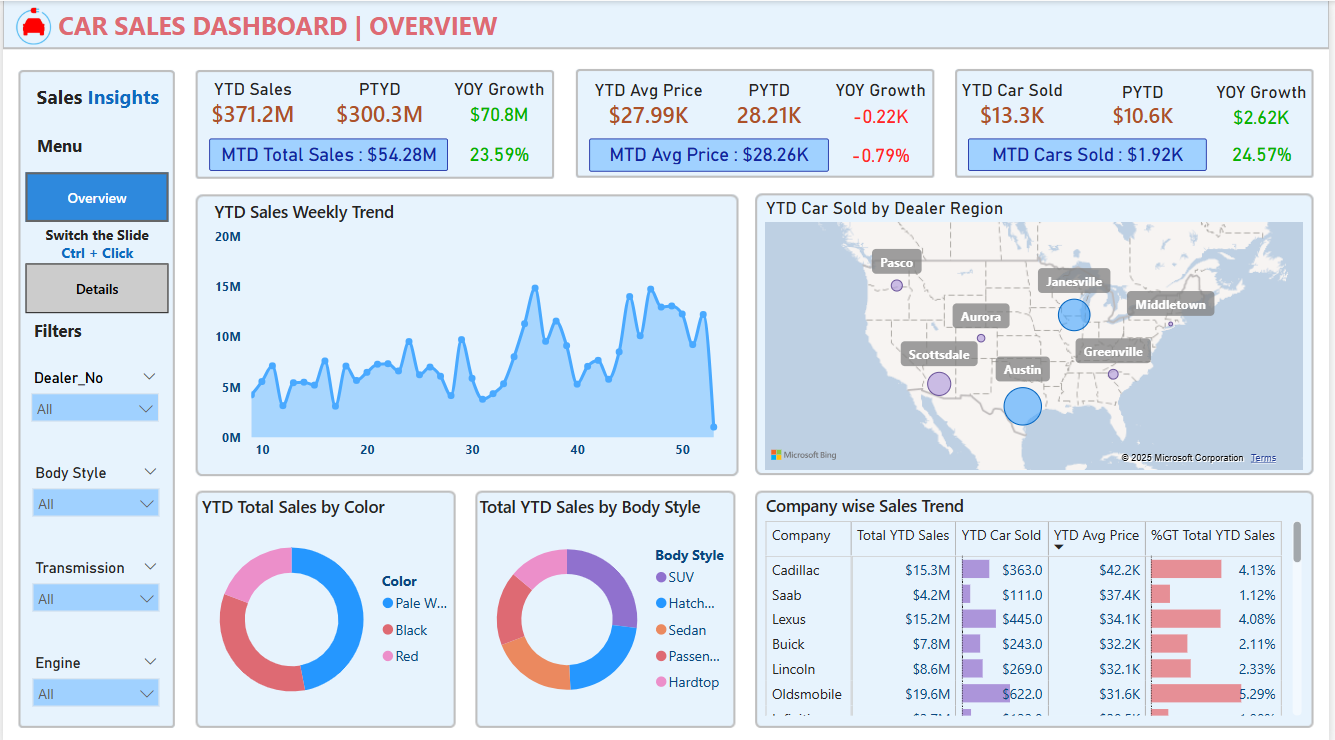

What the dashboard file says about the page in this screenshot:
{"tool":"powerbi","page":{"name":"Overview","canvas":[1280,720],"ordinal":0},"visuals":[{"type":"card","title":"YTD Sales","fields":{"Values":["car_data.Total YTD"]},"box":[190.6,75.2,101.3,51.9],"z":0},{"type":"card","title":"PTYD","fields":{"Values":["car_data.PTYD Total Sales"]},"box":[310.1,75.2,107.4,51.9],"z":1000},{"type":"card","title":"YOY Growth","fields":{"Values":["car_data.Sales Difference"]},"box":[429.5,75.2,98.9,51.9],"z":2000},{"type":"card","fields":{"Values":["car_data.%age YTD Sales"]},"box":[442.9,131.8,72.8,34],"z":3000},{"type":"card","title":"PTYD Sales","fields":{"Values":["car_data.MTD Total Sales"]},"box":[199,133,230.6,31.6],"z":4000},{"type":"card","title":"YTD Avg Price","fields":{"Values":["car_data.YTD Avg Price car sold"]},"box":[564.6,76.2,117,51.9],"z":5000},{"type":"card","title":"PYTD","fields":{"Values":["car_data.PYTD Avg Price car sold"]},"box":[676.9,76.2,125.5,51.9],"z":6000},{"type":"card","title":"YTD Car Sold","fields":{"Values":["car_data.YTD Car Sold"]},"box":[915.6,75.7,116.7,51.6],"z":7000},{"type":"card","title":"YOY Growth","fields":{"Values":["car_data.Avg price difference"]},"box":[797.6,76.2,98.9,51.9],"z":8000},{"type":"card","title":"YOY Growth","fields":{"Values":["car_data.% age of Avg YTD"]},"box":[810.5,128.7,72.8,40],"z":9000},{"type":"card","title":"PTYD Sales","fields":{"Values":["car_data.MTD Avg Price"]},"box":[566.4,132.8,231,31.9],"z":10000},{"type":"card","title":"PYTD","fields":{"Values":["car_data.PYTD Car Sold"]},"box":[1037.5,76.7,125,49.8],"z":11000},{"type":"card","title":"YOY Growth","fields":{"Values":["car_data.Car sold difference"]},"box":[1165,76.7,98.3,52.2],"z":12000},{"type":"card","title":"YOY Growth","fields":{"Values":["car_data.% age of Car sold YTD"]},"box":[1180.7,131.8,68,34],"z":13000},{"type":"card","title":"PTYD Sales","fields":{"Values":["car_data.MTD Cars Sold"]},"box":[932,133,230.6,31.6],"z":14000},{"type":"areaChart","title":"YTD Sales Weekly Trend","fields":{"Category":["Calendare table.Week"],"Y":["Sum(car_data.Price ($))"]},"box":[199.1,191.8,522.4,259.4],"z":15000},{"type":"map","title":"YTD Car Sold by Dealer Region","fields":{"Category":["car_data.Dealer_Region"],"Size":["car_data.YTD Car Sold"]},"box":[730.5,189.3,527.9,268.2],"z":16000},{"type":"donutChart","title":"YTD Total Sales by Color","fields":{"Y":["car_data.Total YTD Sales"],"Category":["car_data.Color"]},"box":[186.9,476.9,258.5,219.6],"z":17000},{"type":"donutChart","fields":{"Category":["car_data.Body Style"],"Y":["car_data.Total YTD Sales"]},"box":[455.1,476.9,252.4,219.6],"z":18000},{"type":"pivotTable","title":"Company wise Sales Trend","fields":{"Rows":["car_data.Company"],"Values":["car_data.Total YTD Sales","car_data.YTD Car Sold","car_data.YTD Avg Price","Divide(car_data.Total YTD Sales, ScopedEval(car_data.Total YTD Sales, []))"]},"box":[731.1,475.3,527.2,219.6],"z":19000},{"type":"slicer","fields":{"Values":["car_data.Transmission"]},"box":[17.6,533.1,143.2,69.2],"z":20000},{"type":"slicer","fields":{"Values":["car_data.Engine"]},"box":[17.6,625,143.2,69.2],"z":21000},{"type":"slicer","fields":{"Values":["car_data.Dealer_No "]},"box":[17.4,349.9,143.6,68.8],"z":22000},{"type":"slicer","fields":{"Values":["car_data.Dealer_Region"]},"box":[17.6,441.3,143.2,69.2],"z":23000},{"type":"textbox","box":[35,2.4,515.2,48.3],"z":24000},{"type":"textbox","box":[17,75.2,149.3,40],"z":25000},{"type":"textbox","box":[17,122.6,75.2,32.8],"z":26000},{"type":"textbox","box":[17,302.2,71.6,40],"z":27000},{"type":"pageNavigator","box":[21.8,165,138.3,137.1],"z":28000},{"type":"textbox","box":[25.5,211.1,131.1,63.1],"z":29000},{"type":"image","box":[1,1.2,56.7,45.8],"z":30000}]}

Visuals, with their boxes in screenshot pixels (x1, y1, x2, y2), scaled from the page's 1280x720 canvas onto the 1335x740 screenshot:
"YTD Sales" card: <region>199, 77, 304, 131</region>
"PTYD" card: <region>323, 77, 435, 131</region>
"YOY Growth" card: <region>448, 77, 551, 131</region>
card - car_data.%age YTD Sales: <region>462, 135, 538, 170</region>
"PTYD Sales" card: <region>208, 137, 448, 169</region>
"YTD Avg Price" card: <region>589, 78, 711, 132</region>
"PYTD" card: <region>706, 78, 837, 132</region>
"YTD Car Sold" card: <region>955, 78, 1077, 131</region>
"YOY Growth" card: <region>832, 78, 935, 132</region>
"YOY Growth" card: <region>845, 132, 921, 173</region>
"PTYD Sales" card: <region>591, 136, 832, 169</region>
"PYTD" card: <region>1082, 79, 1212, 130</region>
"YOY Growth" card: <region>1215, 79, 1318, 132</region>
"YOY Growth" card: <region>1231, 135, 1302, 170</region>
"PTYD Sales" card: <region>972, 137, 1213, 169</region>
"YTD Sales Weekly Trend" areaChart: <region>208, 197, 753, 464</region>
"YTD Car Sold by Dealer Region" map: <region>762, 195, 1312, 470</region>
"YTD Total Sales by Color" donutChart: <region>195, 490, 465, 716</region>
donutChart - car_data.Body Style x car_data.Total YTD Sales: <region>475, 490, 738, 716</region>
"Company wise Sales Trend" pivotTable: <region>763, 489, 1312, 714</region>
slicer - car_data.Transmission: <region>18, 548, 168, 619</region>
slicer - car_data.Engine: <region>18, 642, 168, 713</region>
slicer - car_data.Dealer_No : <region>18, 360, 168, 430</region>
slicer - car_data.Dealer_Region: <region>18, 454, 168, 525</region>
textbox: <region>37, 2, 574, 52</region>
textbox: <region>18, 77, 173, 118</region>
textbox: <region>18, 126, 96, 160</region>
textbox: <region>18, 311, 92, 352</region>
pageNavigator: <region>23, 170, 167, 310</region>
textbox: <region>27, 217, 163, 282</region>
image: <region>1, 1, 60, 48</region>
